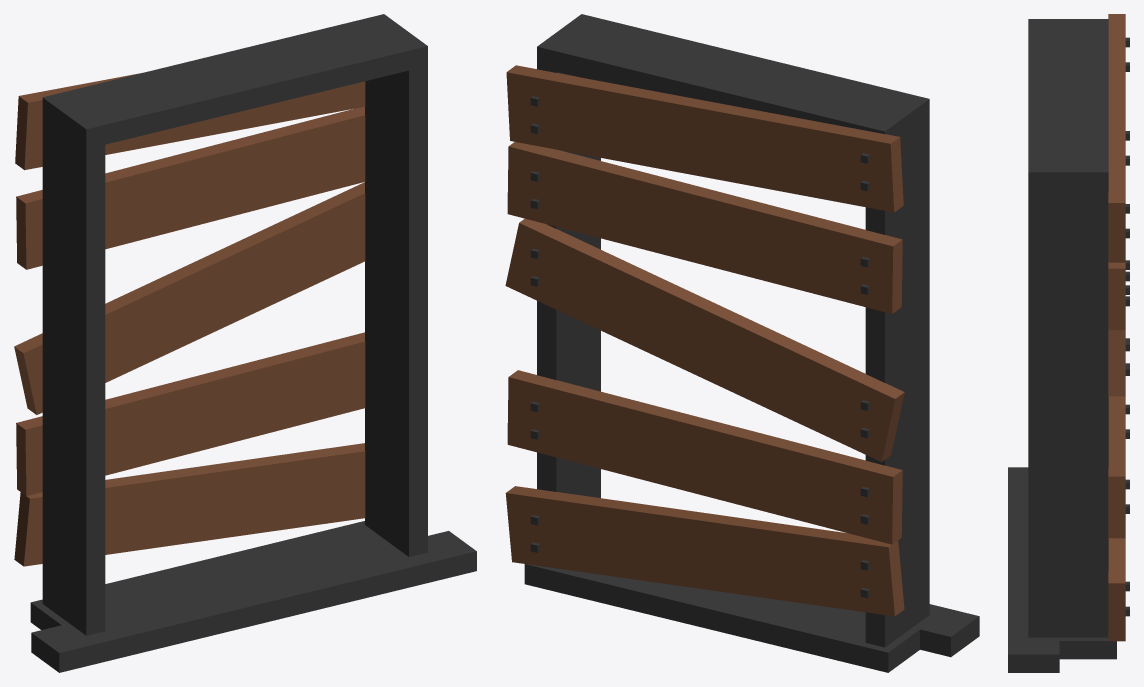
Rendered from SM_Floor_Window_02.glb.
3 views of the same model, side by side, from view 1: azimuth 30°, elevation 25°; view 2: azimuth 150°, elevation 25°; view 3: azimuth 270°, elevation 25° (orthographic). The views are drawn at different scales.
Parts seen in each view (by area): view 1: SM_Floor_Window_02; view 2: SM_Floor_Window_02; view 3: SM_Floor_Window_02.
Boxes of the visible parts, box(x1,y1,x2,y2) form: SM_Floor_Window_02: box(14, 14, 476, 672); SM_Floor_Window_02: box(505, 14, 979, 672); SM_Floor_Window_02: box(1008, 14, 1129, 672).
Bounding box in the file's own units: 1.1 × 1.33 × 0.3024.
1 material, 1 textured.
